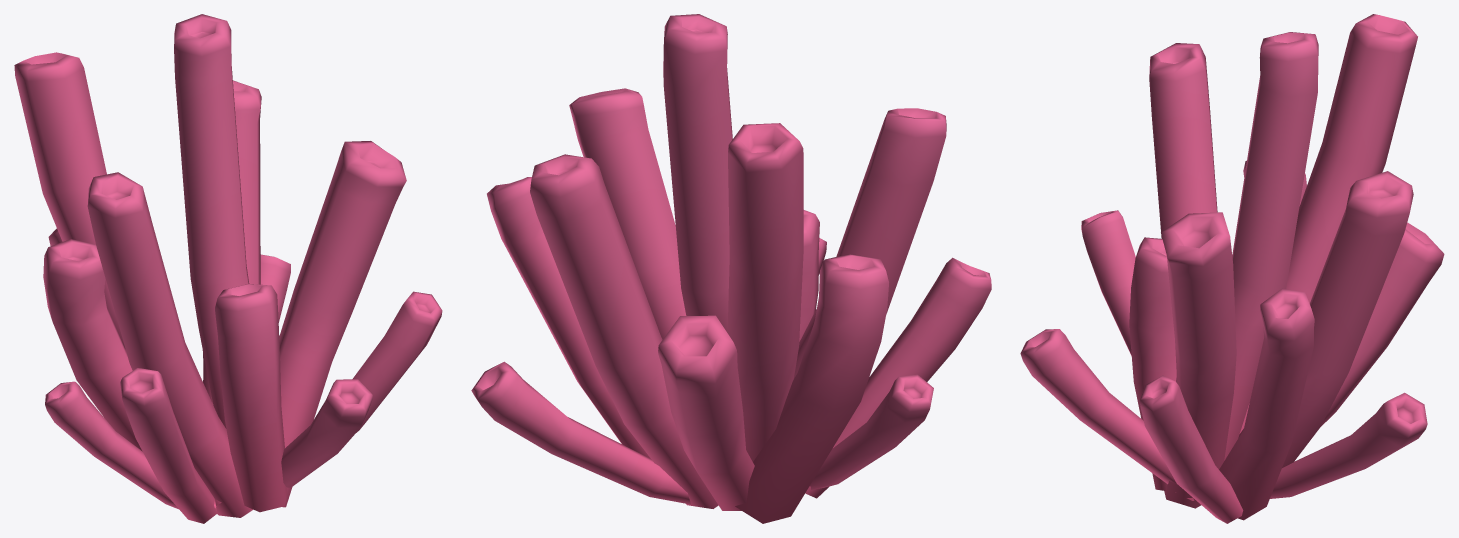
Rendered from CoralCA.fbx.
3 renders of one model, left to right at view 1: azimuth 30°, elevation 25°; view 2: azimuth 150°, elevation 25°; view 3: azimuth 270°, elevation 25°, orthographic. The views are drawn at different scales.
Visible parts, largest first — view 1: CoralCA; view 2: CoralCA; view 3: CoralCA.
Part boxes in pixels (bbox=[...]): CoralCA: bbox=[14, 14, 442, 523]; CoralCA: bbox=[471, 14, 991, 523]; CoralCA: bbox=[1020, 14, 1444, 523].
Bounding box in the file's own units: 54.3 × 63.72 × 53.05.
Materials: 1 (1 with a texture image).
